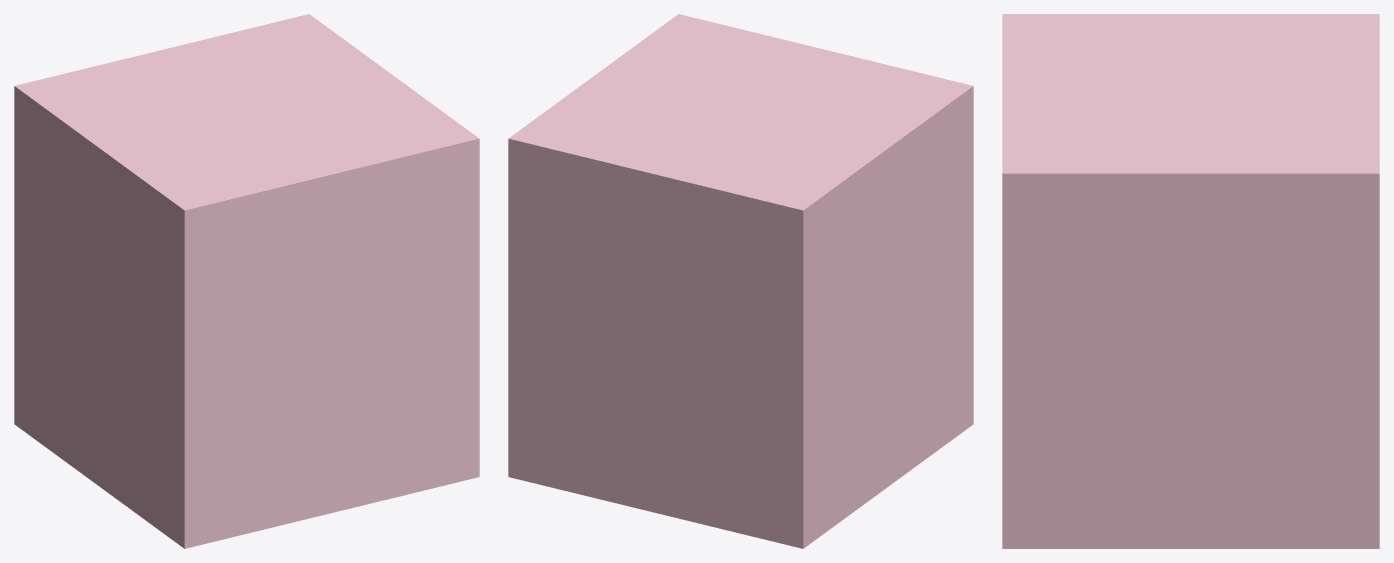
File: hanbok_manga_sup.glb
The picture shows the model from 3 angles, left to right: view 1: azimuth 30°, elevation 25°; view 2: azimuth 150°, elevation 25°; view 3: azimuth 270°, elevation 25°; orthographic projection. The views are drawn at different scales.
Visible parts, largest first — view 1: hanbok_manga_sup; view 2: hanbok_manga_sup; view 3: hanbok_manga_sup.
Part boxes in pixels (x1=…): hanbok_manga_sup: x1=14, y1=14, x2=479, y2=548; hanbok_manga_sup: x1=508, y1=14, x2=973, y2=548; hanbok_manga_sup: x1=1002, y1=14, x2=1379, y2=548.
Size of the model in its own units: 0.31 by 0.34 by 0.31.
